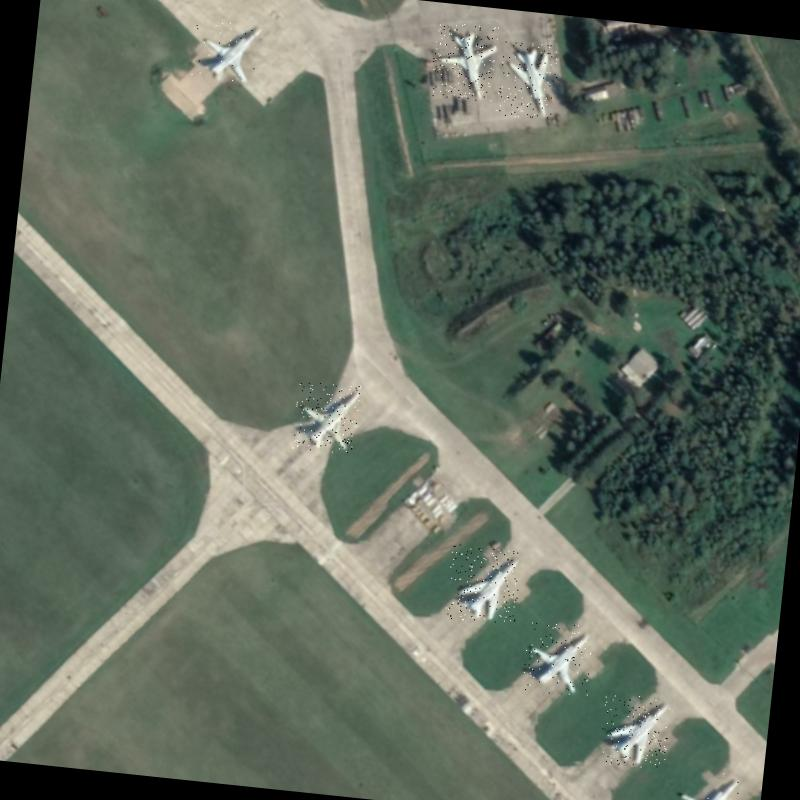A12: (444, 543, 522, 625), (598, 691, 672, 770), (522, 620, 594, 698), (430, 21, 498, 102), (495, 40, 560, 120), (292, 380, 360, 454), (189, 14, 260, 82), (664, 767, 741, 800)
